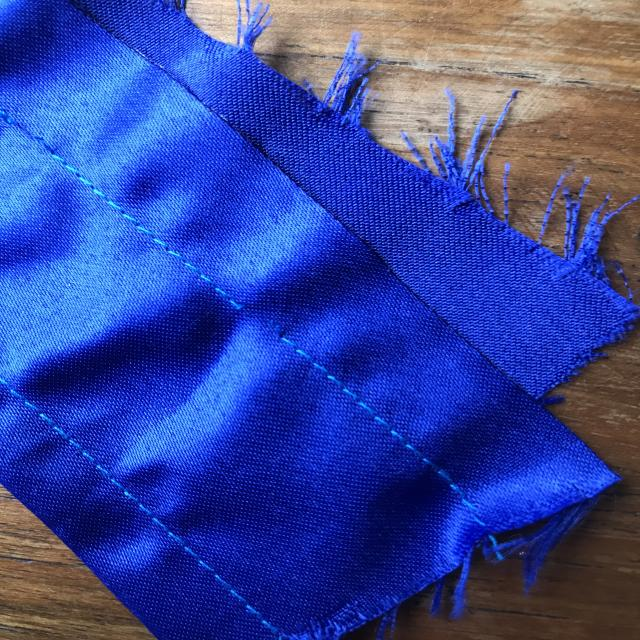broken: (229, 280, 312, 364)
